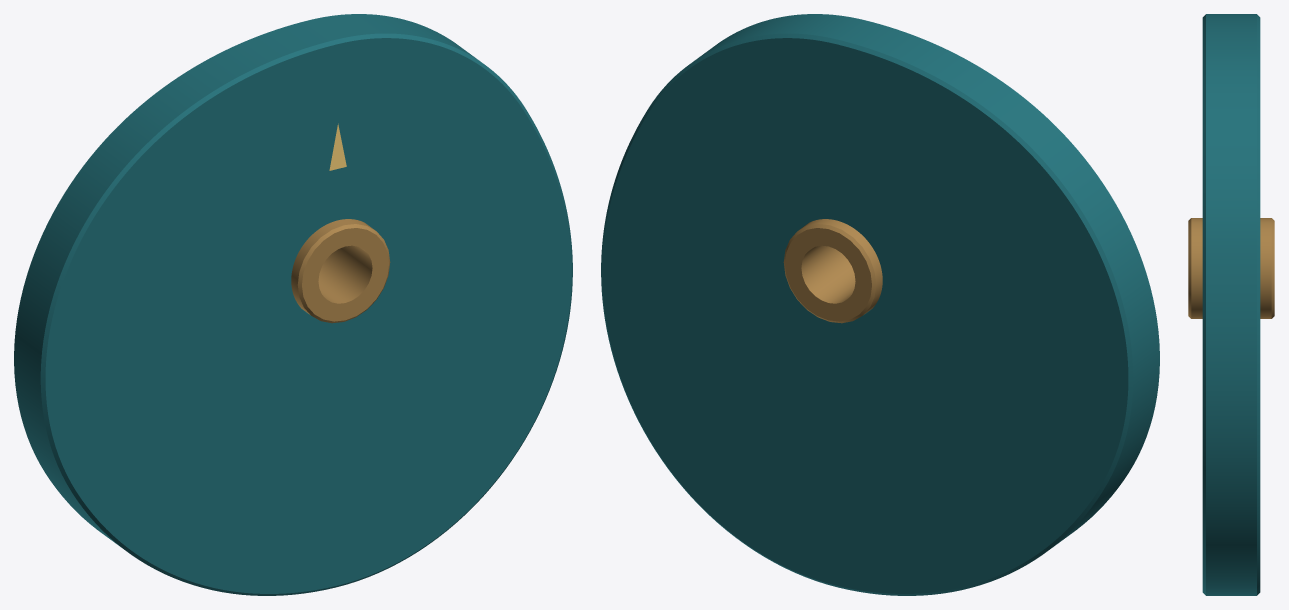
File: VLAB_cam.fbx
The picture shows the model from 3 angles, left to right: view 1: azimuth 30°, elevation 25°; view 2: azimuth 150°, elevation 25°; view 3: azimuth 270°, elevation 25°; orthographic projection. The views are drawn at different scales.
Visible parts, largest first — view 1: VLAB_cam_CamBody_VIS, VLAB_cam_Bore_VIS; view 2: VLAB_cam_CamBody_VIS, VLAB_cam_Bore_VIS; view 3: VLAB_cam_CamBody_VIS, VLAB_cam_Bore_VIS.
Boxes of the visible parts, x1,y1,x2,y2 form: VLAB_cam_CamBody_VIS: [14, 14, 572, 595]; VLAB_cam_Bore_VIS: [291, 219, 390, 323]; VLAB_cam_CamBody_VIS: [601, 14, 1159, 595]; VLAB_cam_Bore_VIS: [783, 219, 882, 323]; VLAB_cam_CamBody_VIS: [1202, 14, 1260, 595]; VLAB_cam_Bore_VIS: [1188, 218, 1274, 318].
Bounding box in the file's own units: 0.061 × 0.06 × 0.009.
